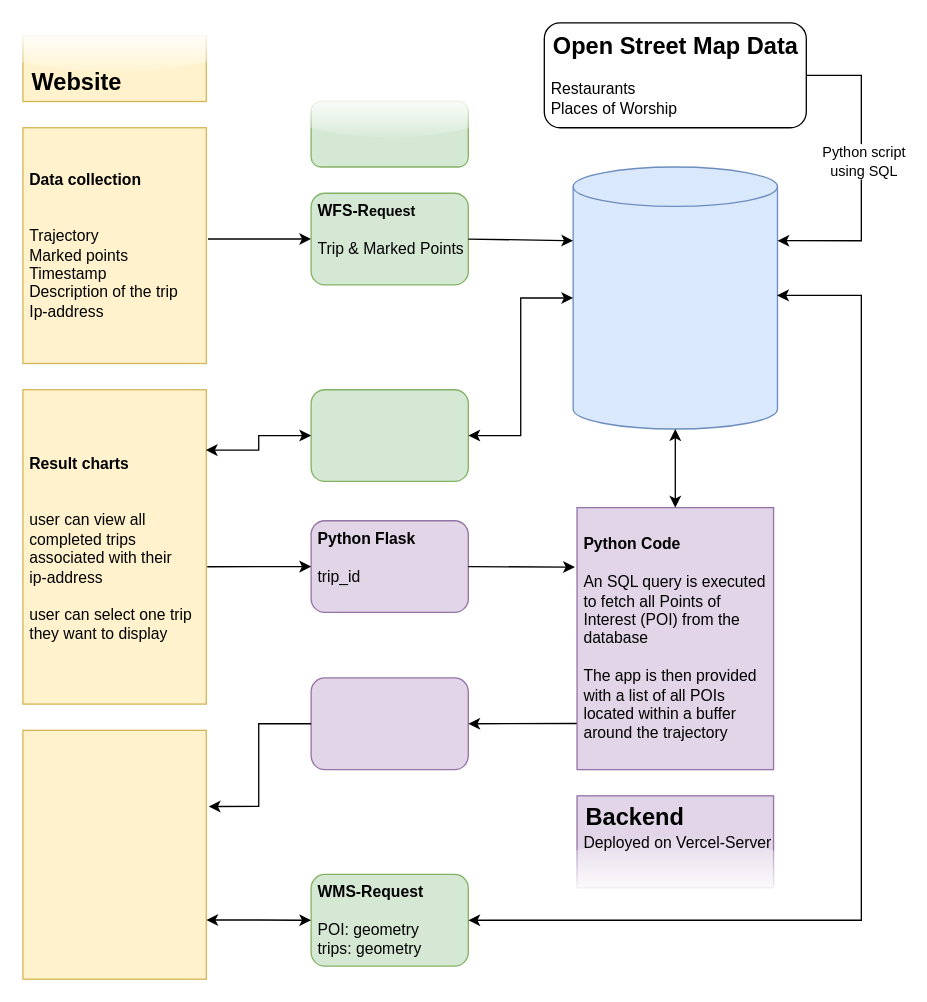
Image size: 927x1002. Some labels were removed from this diagram. Here are the shapes that lost their labels. From the top down, the box of each, then its label:
(310, 100, 468, 167): Geoserver
(572, 166, 777, 429): Database: Trips Trip_id user_id timestamp geometry POI type geometry
(310, 388, 468, 481): WFS-Request trip_id, timestamp, trip_name
(310, 677, 468, 770): Python Flask POI-IDs within the buffer of trajectory
(22, 729, 206, 979): Visualisation The results are visually presented
